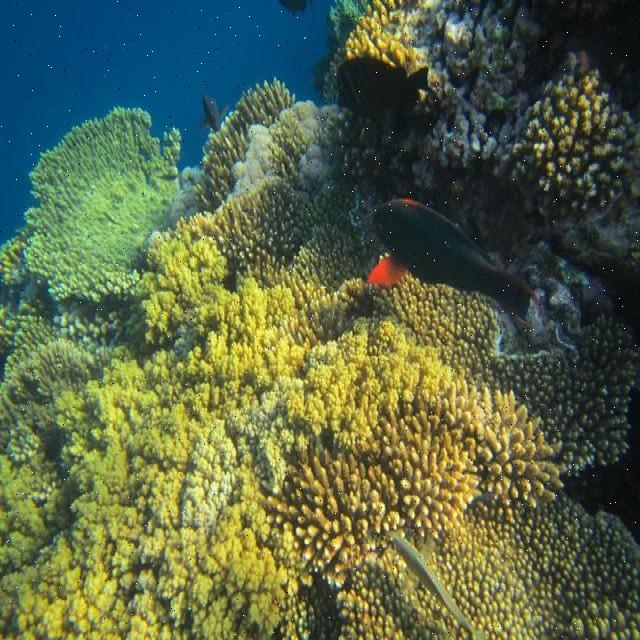fish: (367, 200, 540, 324), (394, 535, 481, 636), (334, 55, 431, 119), (194, 96, 227, 131)
reefs: (1, 240, 460, 638), (171, 179, 638, 456), (263, 382, 568, 588), (279, 493, 638, 639), (24, 105, 181, 304), (507, 73, 639, 225), (196, 76, 305, 206)
